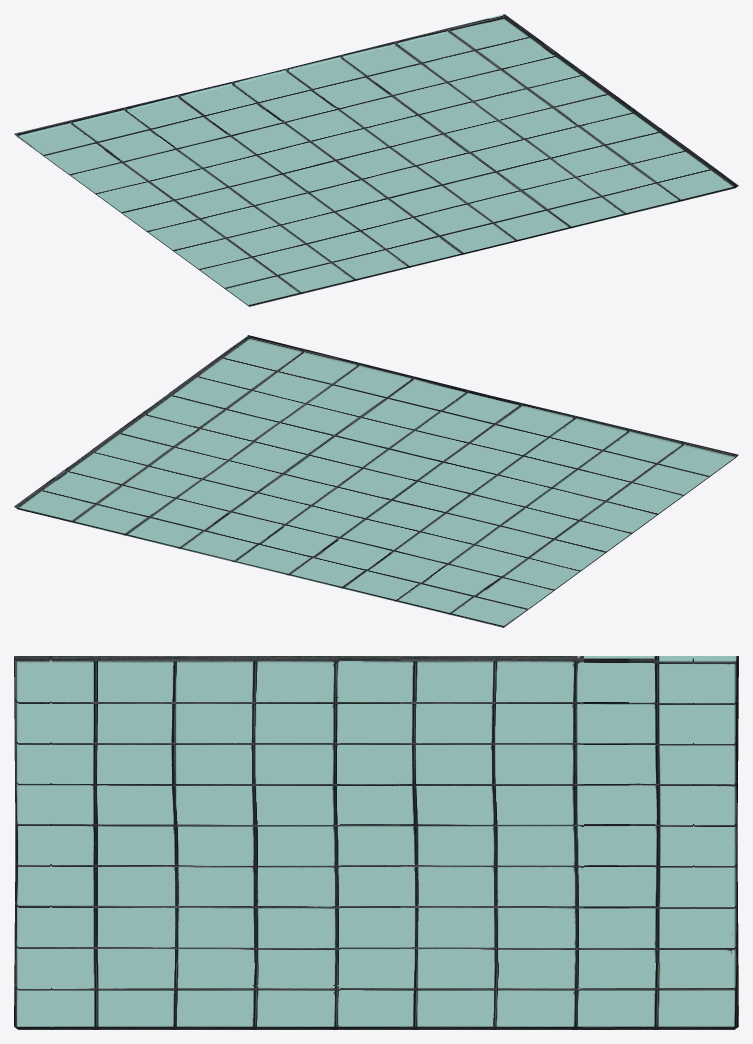
The model's file is SM_Immigration_Floor_01.fbx.
The picture shows the model from 3 angles, top to bottom: view 1: azimuth 30°, elevation 25°; view 2: azimuth 150°, elevation 25°; view 3: azimuth 270°, elevation 25°; orthographic projection. The views are drawn at different scales.
Visible parts, largest first — view 1: SM_Immigration_Floor_01; view 2: SM_Immigration_Floor_01; view 3: SM_Immigration_Floor_01.
Boxes of the visible parts, bbox=[...] form: SM_Immigration_Floor_01: bbox=[14, 14, 738, 306]; SM_Immigration_Floor_01: bbox=[14, 335, 738, 627]; SM_Immigration_Floor_01: bbox=[14, 656, 738, 1029].
Bounding box in the file's own units: 61.25 × 0.3903 × 50.65.
